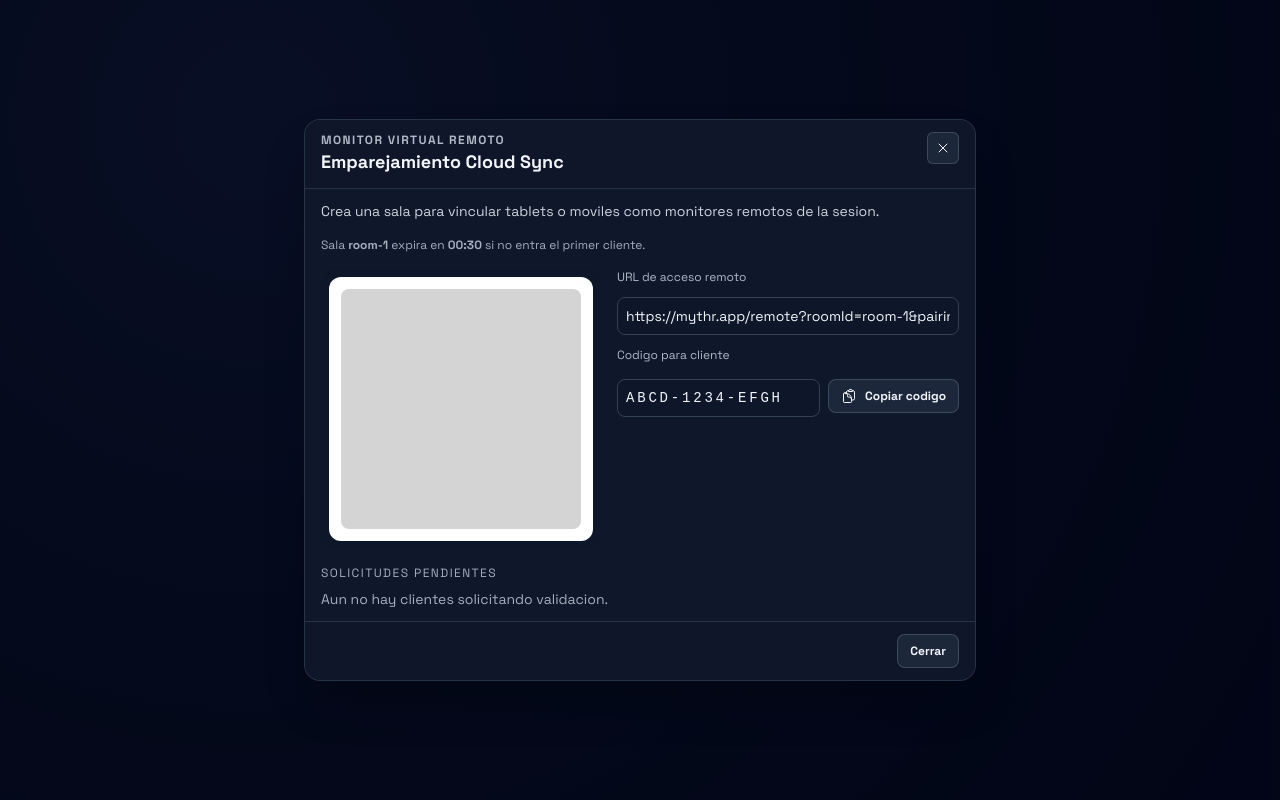
Test: components/RemotePairingModal › muestra error si clipboard y fallback fallan
This screenshot has width=1280, height=800.
Click the button with test id "remote-pairing-copy-code" at (894, 396), box 828,379 -> 959,413
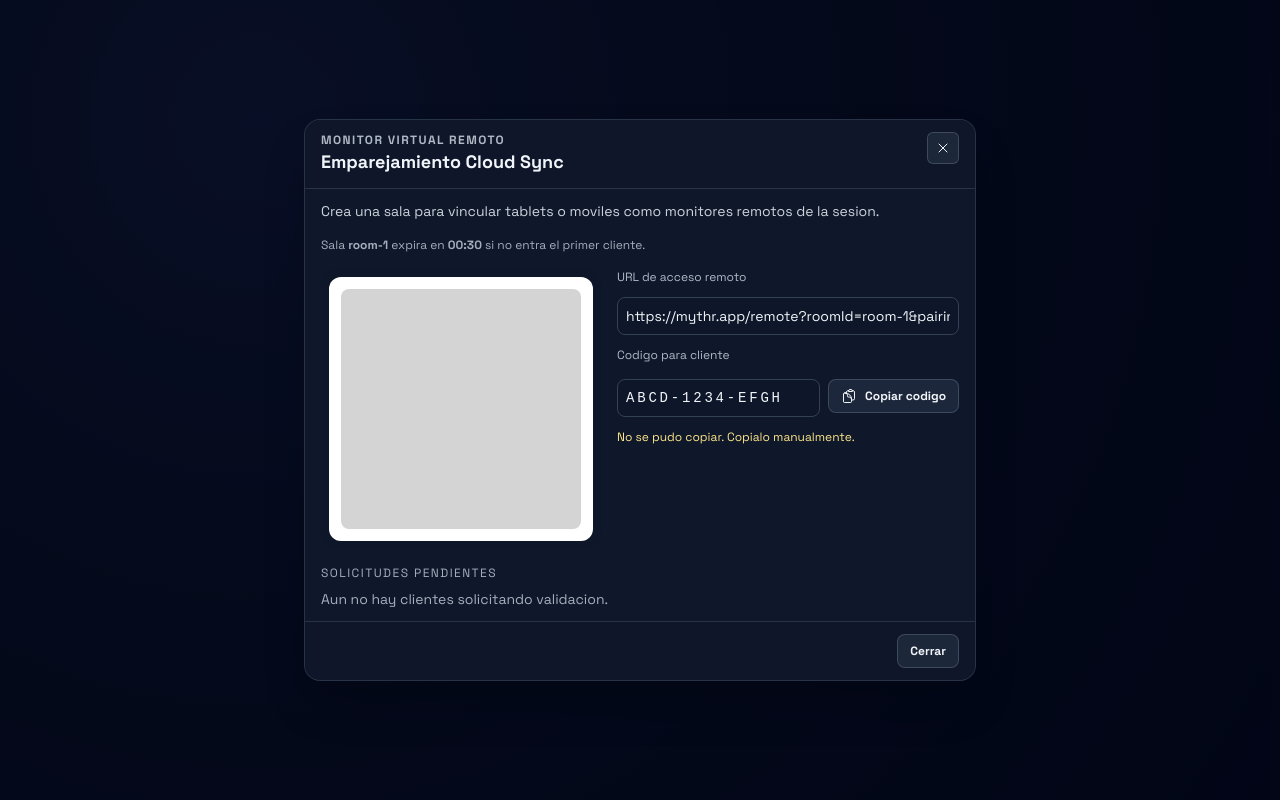
Check: the message with test id "remote-pairing-copy-feedback" shows "No se pudo copiar", box 617,429 -> 855,445
